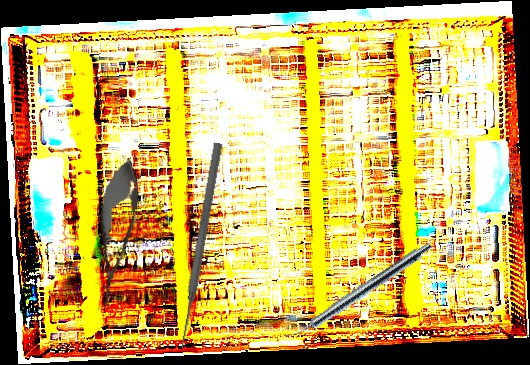Handpiece: (282, 236, 435, 348)
Micro Scissor: (86, 155, 147, 311)
Pusher: (175, 141, 225, 350)
